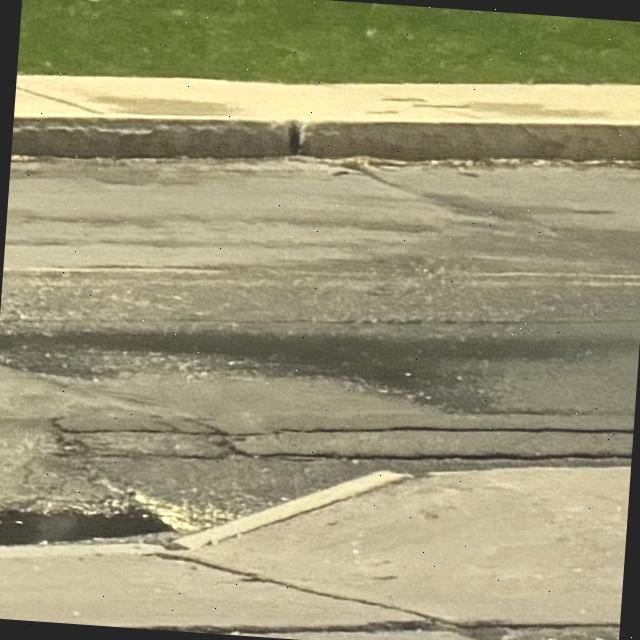curb: (0, 471, 411, 560), (11, 117, 640, 161)
